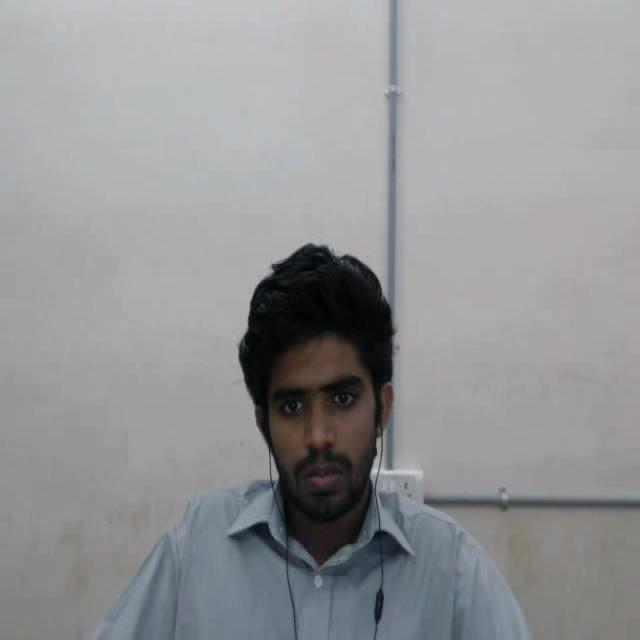Engaged: (238, 224, 404, 572)
